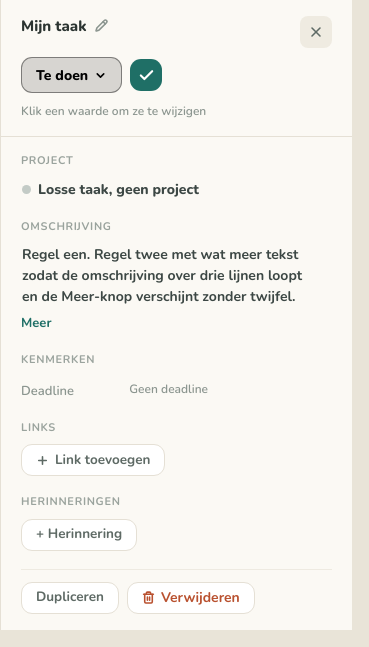
Test: TaskDetailPanel — klik-de-waarde-om-te-bewerken › collapses the omschrijving behind Meer / Minder
Click the button "Meer".
click(36, 324)  # box 21,314 -> 52,334
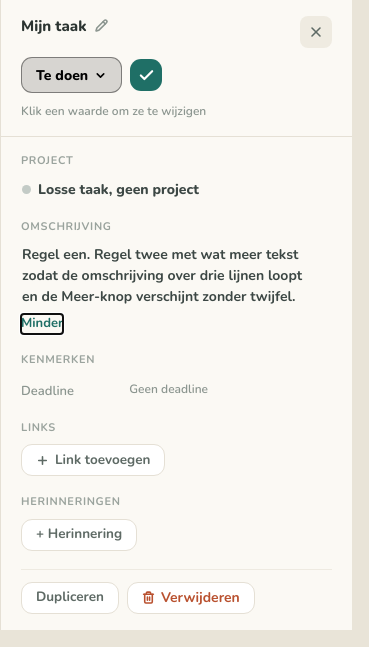
Check: the button "Minder" is shown, box 21,314 -> 63,334
